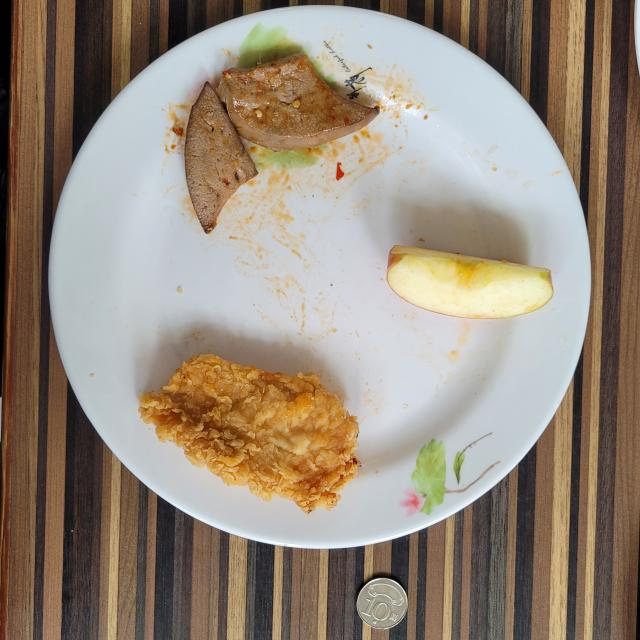apple -sliced-: (386, 245, 552, 319)
coin: (356, 578, 408, 629)
fried chicken cutlet: (139, 354, 359, 512)
pig liver: (185, 54, 379, 234)
